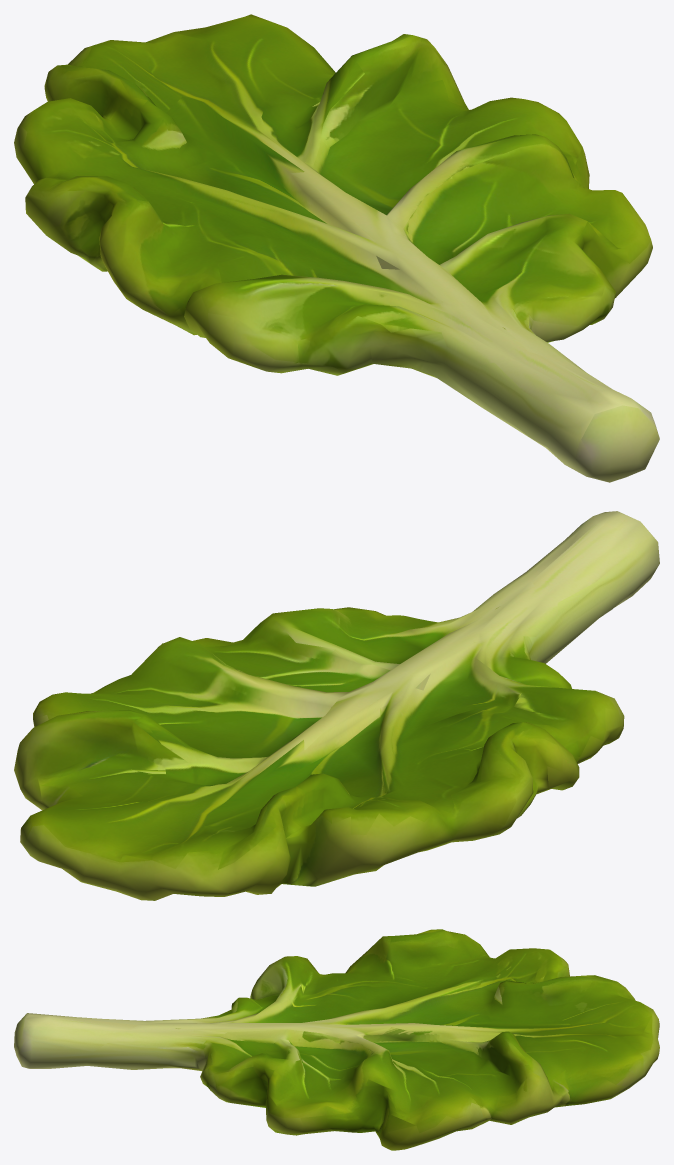
The model's file is drift_leaf.fbx.
3 renders of one model, top to bottom at view 1: azimuth 30°, elevation 25°; view 2: azimuth 150°, elevation 25°; view 3: azimuth 270°, elevation 25°, orthographic. The views are drawn at different scales.
Parts seen in each view (by area): view 1: 1_output_1794125925019807_YfwoeQMSc; view 2: 1_output_1794125925019807_YfwoeQMSc; view 3: 1_output_1794125925019807_YfwoeQMSc.
Part boxes in pixels (left/top/right/bottom): 1_output_1794125925019807_YfwoeQMSc: left=14, top=14, right=659, bottom=482; 1_output_1794125925019807_YfwoeQMSc: left=14, top=511, right=659, bottom=900; 1_output_1794125925019807_YfwoeQMSc: left=14, top=929, right=659, bottom=1150.
Bounding box in the file's own units: 1.57 × 0.4 × 2.67.
1 material, 1 textured.
